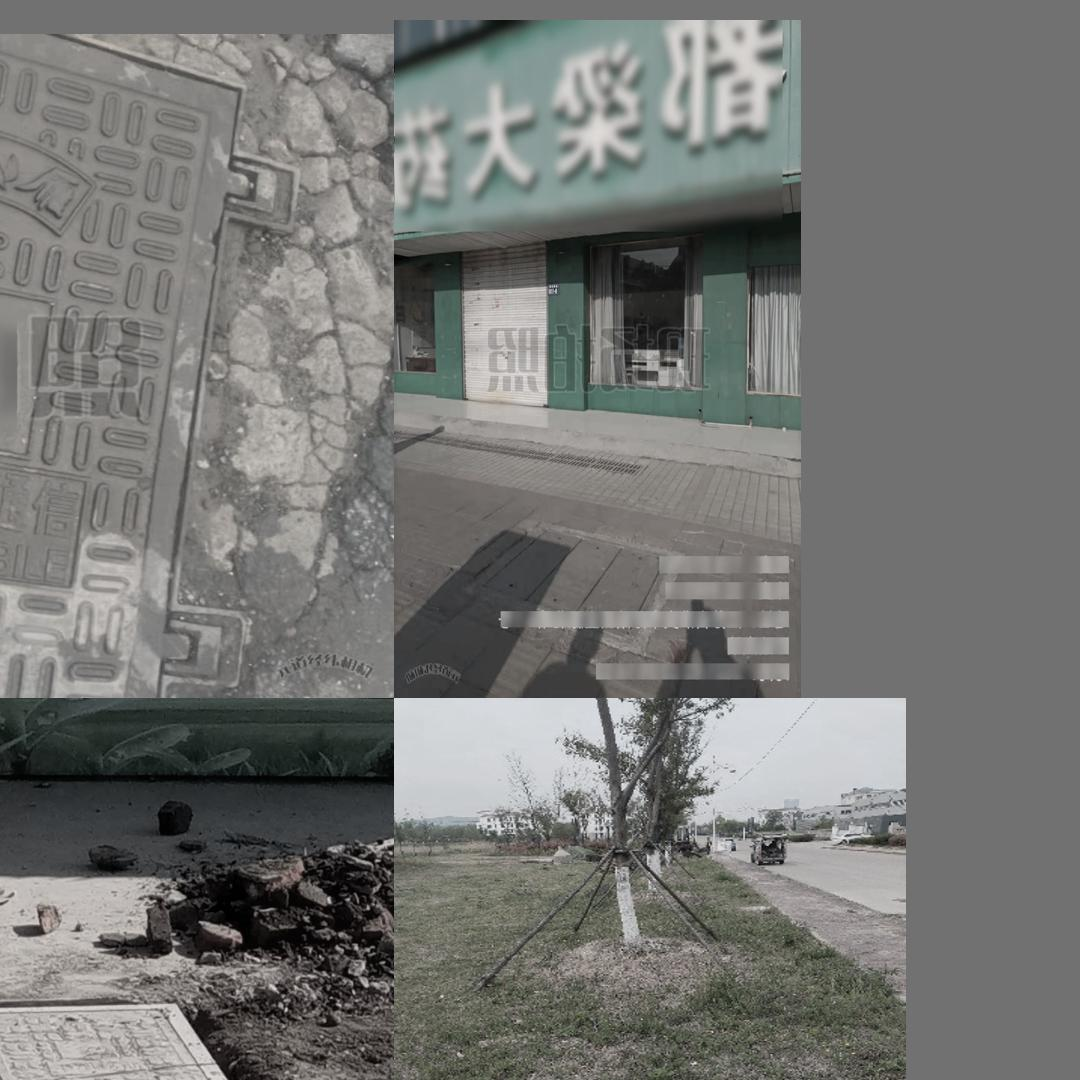good: (0, 37, 301, 698), (474, 523, 672, 644), (0, 1003, 235, 1080)
